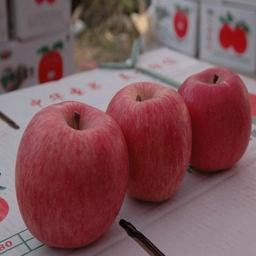apple: (14, 99, 128, 249), (105, 81, 191, 207), (177, 67, 252, 176)
